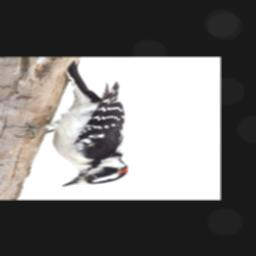Woodpecker: (3, 60, 132, 188)
